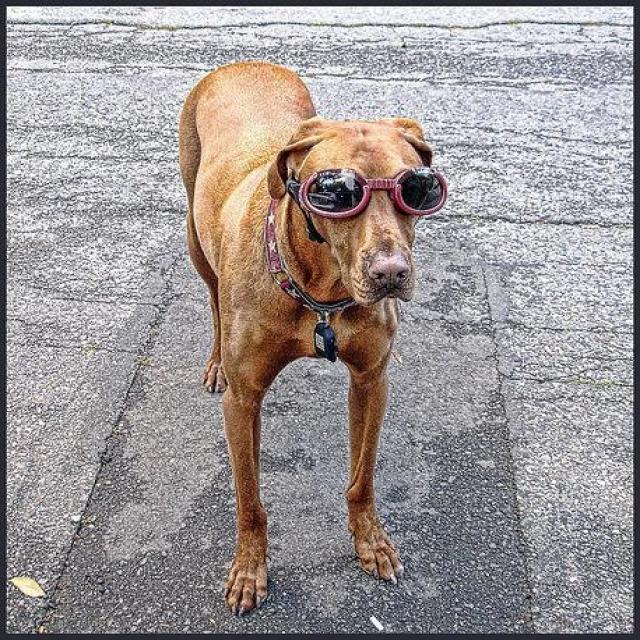rhodesian_ridgeback: (172, 58, 448, 616)
